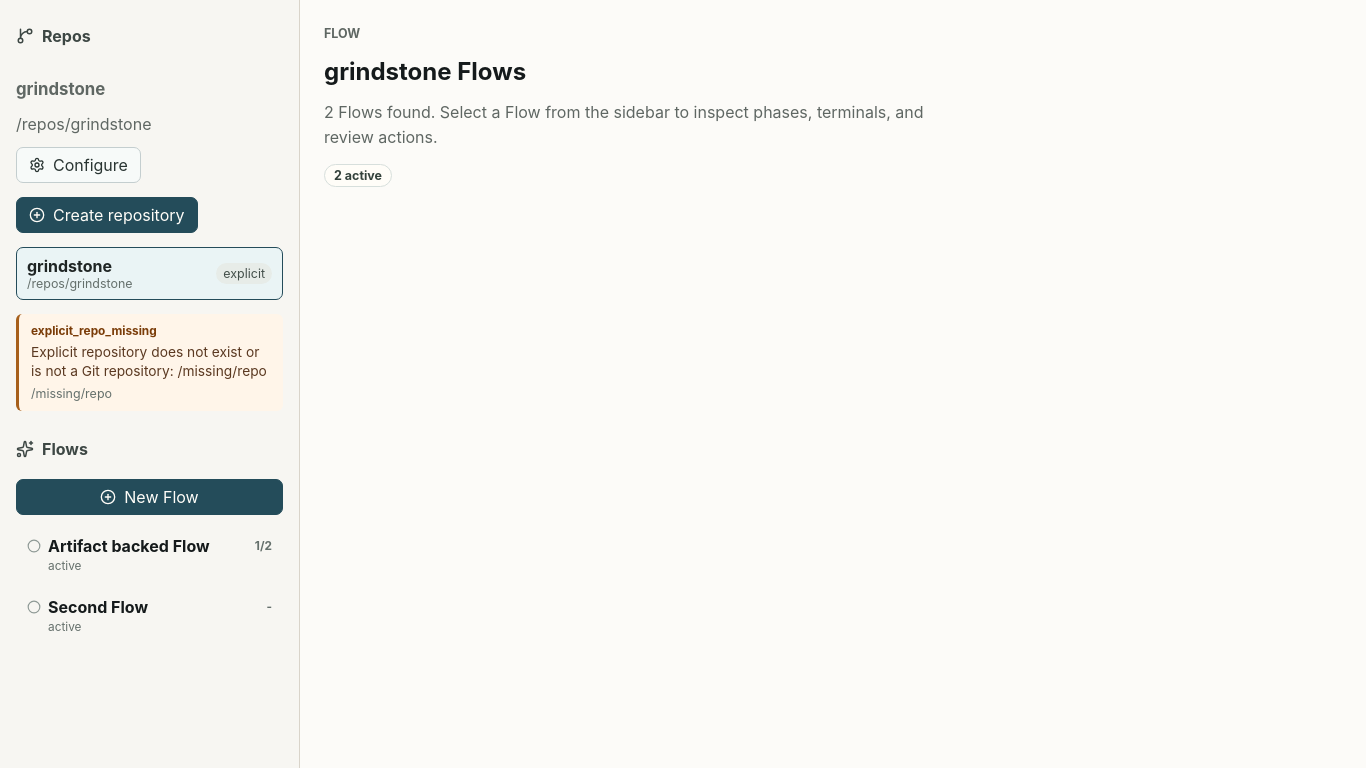
App shell › discards in-flight plan responses after switching Flows
Click the button "Artifact backed Flow 1/2 active" at (150, 555), box [16,527,283,582]
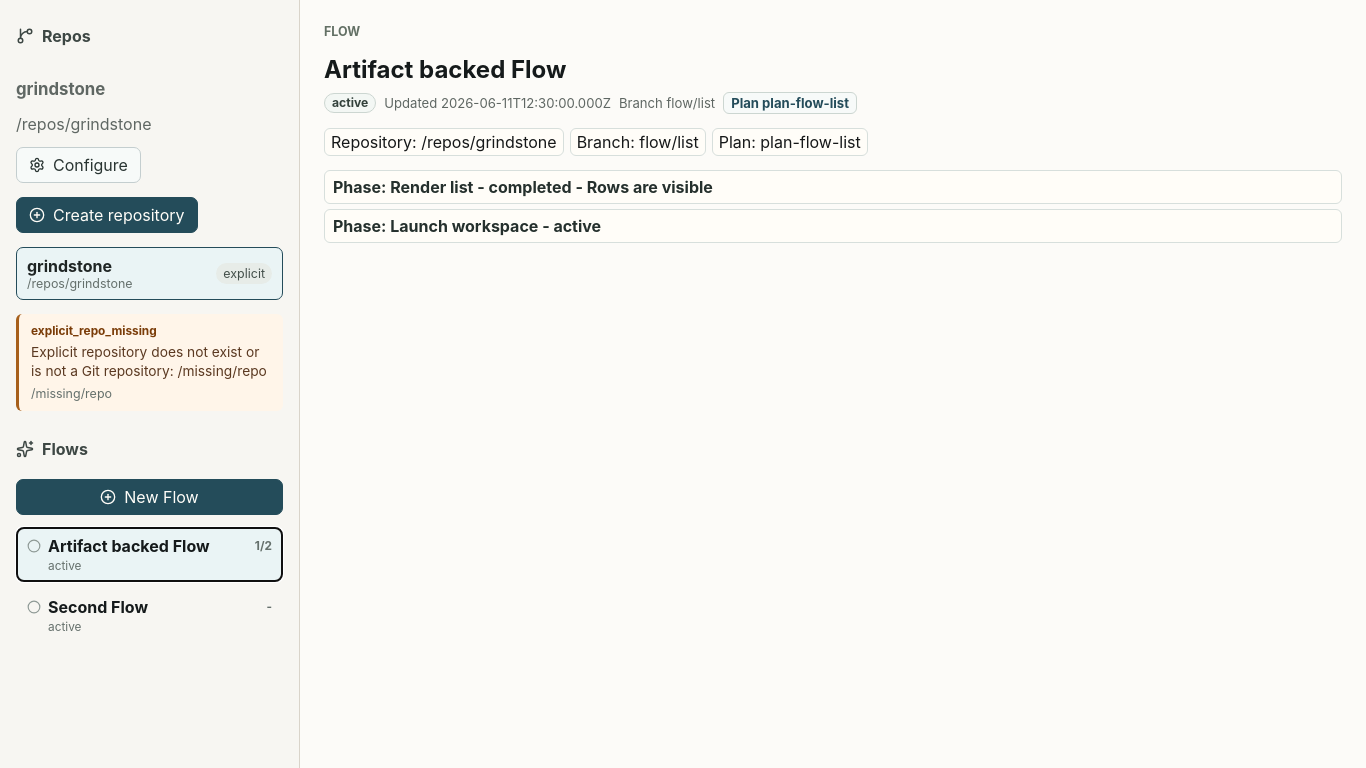
Click the button with aria-label "open plan plan-flow-list for artifact backed flow" at (790, 103), box [723,92,857,114]
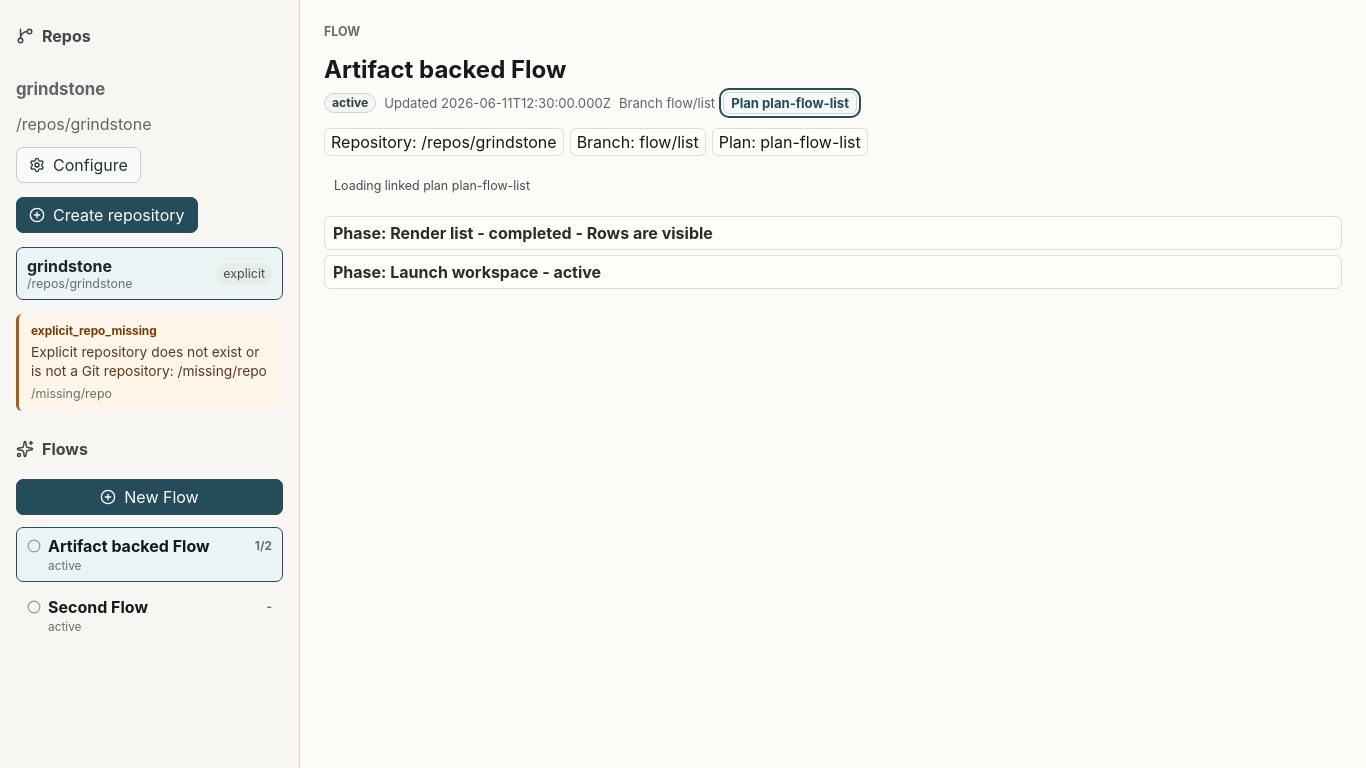
Check: the message named "artifact backed flow linked plan" is shown, box [334,178,530,193]
Click the button "Second Flow - active" at (150, 616), box [16,588,283,643]
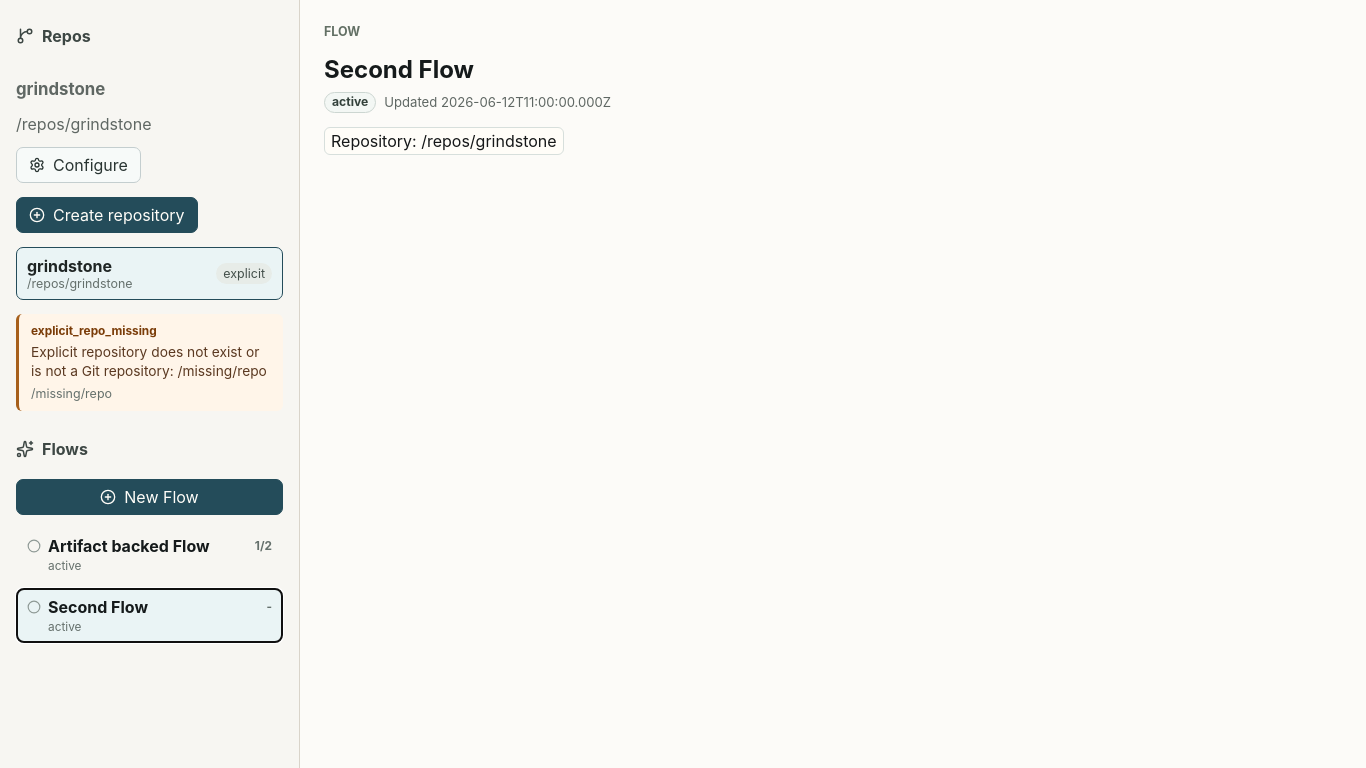
Check: the heading "Second Flow" is shown, box [324,55,474,84]
Check: the text "linked plan" is gone
